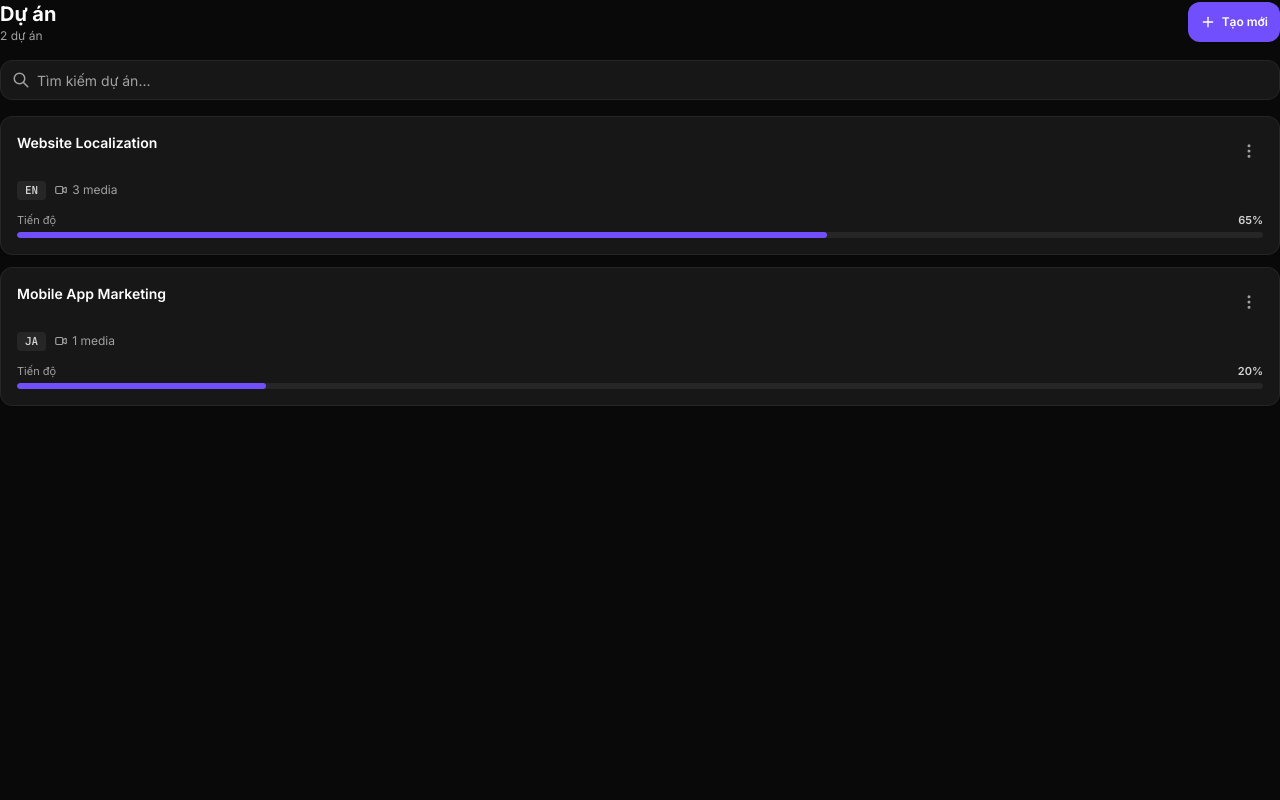
Test: MobileProjectListPage › validates required project name before submitting create form
The image size is (1280, 800).
Click the button with aria-label "Tạo dự án mới" at (1234, 22), box [1188, 2, 1279, 42]
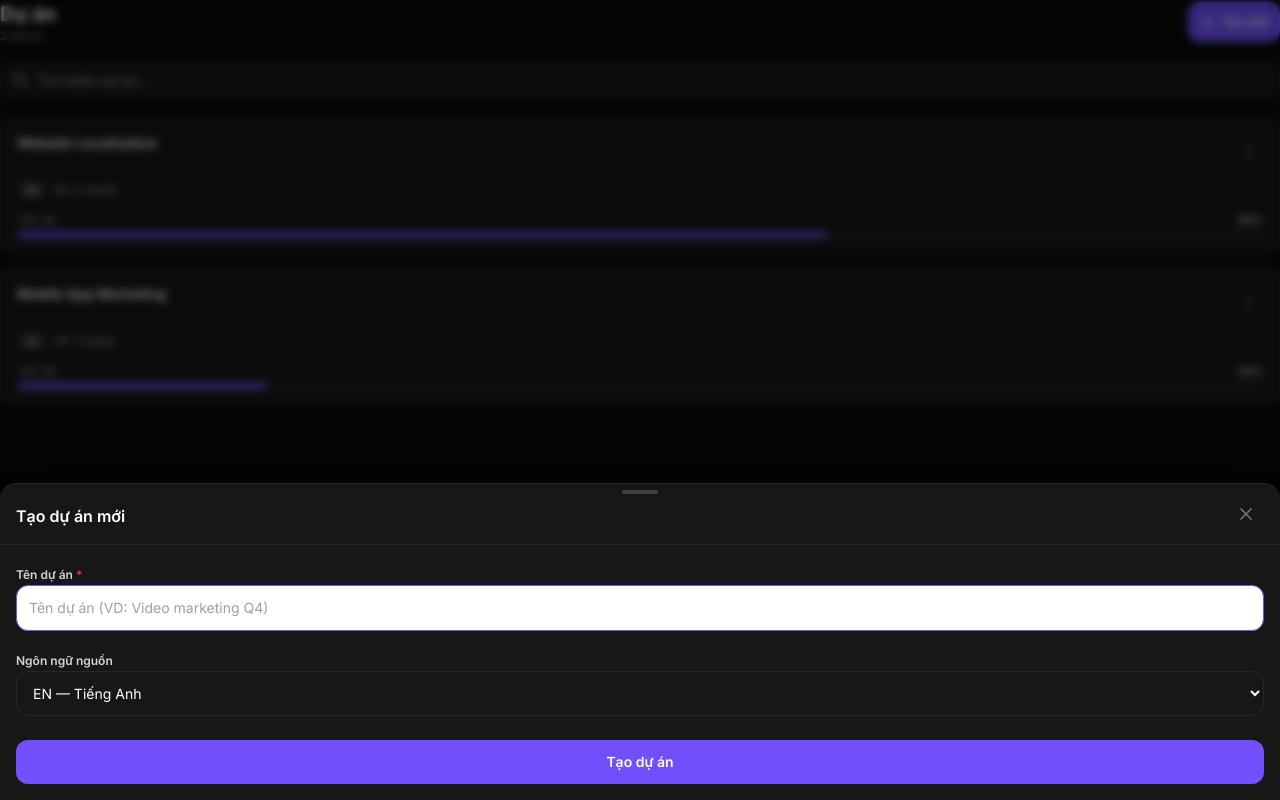
Click the button "Tạo dự án" at (640, 762), box [16, 740, 1264, 784]
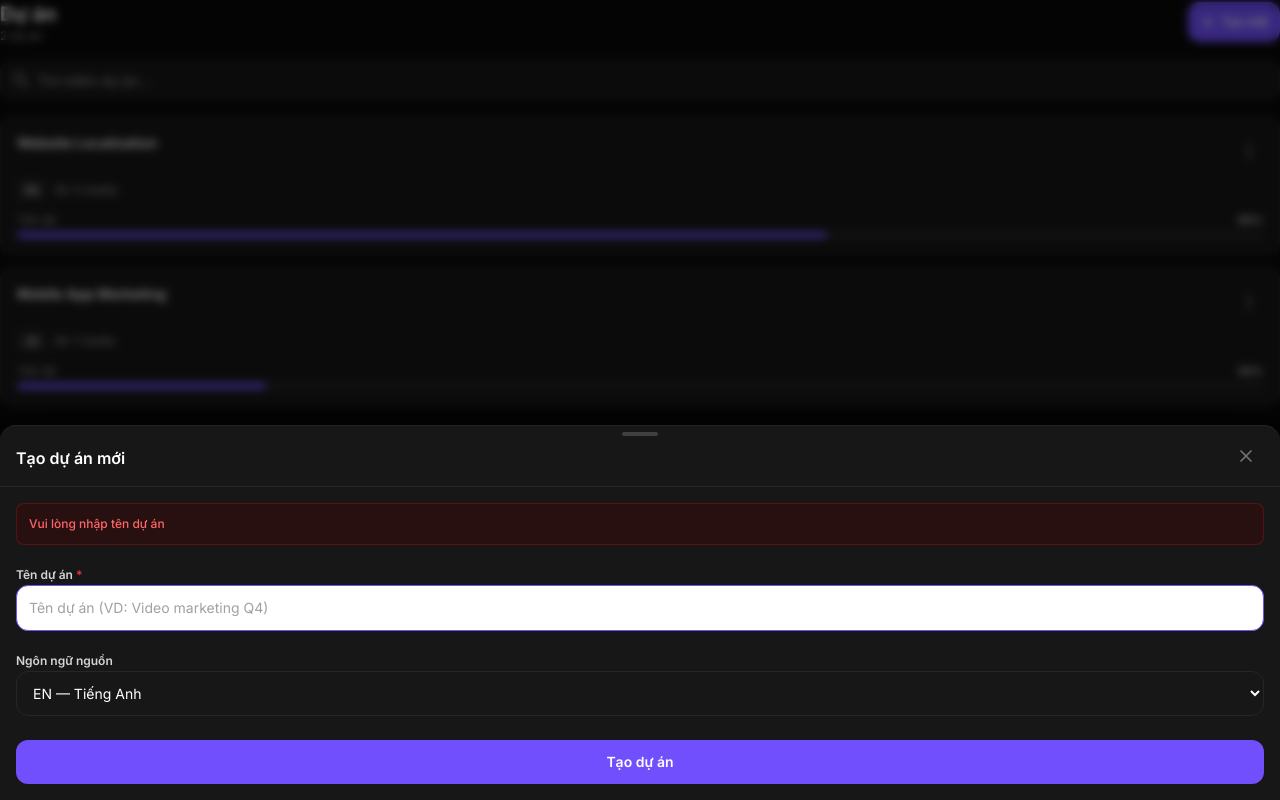
Result: the text "Vui lòng nhập tên dự án" is shown at [16, 503, 1264, 545]
